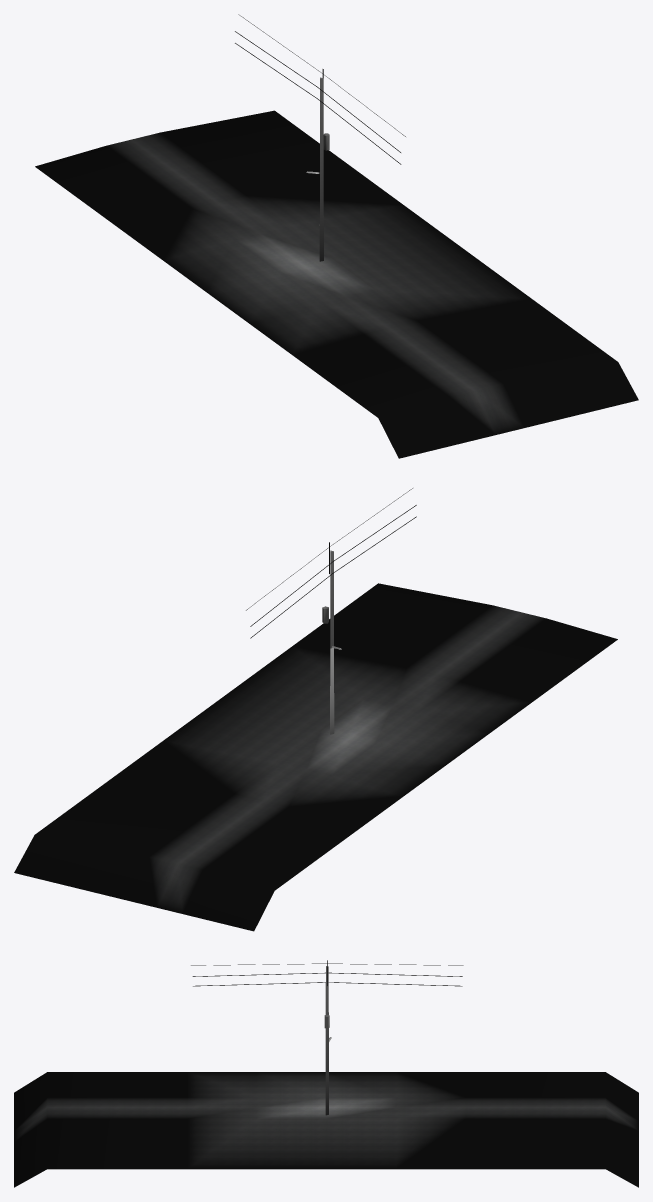
File: ROAD_R_00.glb
3 views of the same model, one above another, from view 1: azimuth 30°, elevation 25°; view 2: azimuth 150°, elevation 25°; view 3: azimuth 270°, elevation 25° (orthographic). The views are drawn at different scales.
Visible parts, largest first — view 1: obj13, obj11; view 2: obj13, obj11; view 3: obj13, obj11.
Boxes of the visible parts, x1,y1,x2,y2 form: obj13: [35, 110, 638, 458]; obj11: [235, 14, 405, 261]; obj13: [14, 583, 617, 931]; obj11: [246, 488, 416, 734]; obj13: [14, 1072, 638, 1187]; obj11: [191, 960, 463, 1115].
Size of the model in its own units: 40.34 by 35.33 by 112.
Materials: 3 (2 with a texture image).
